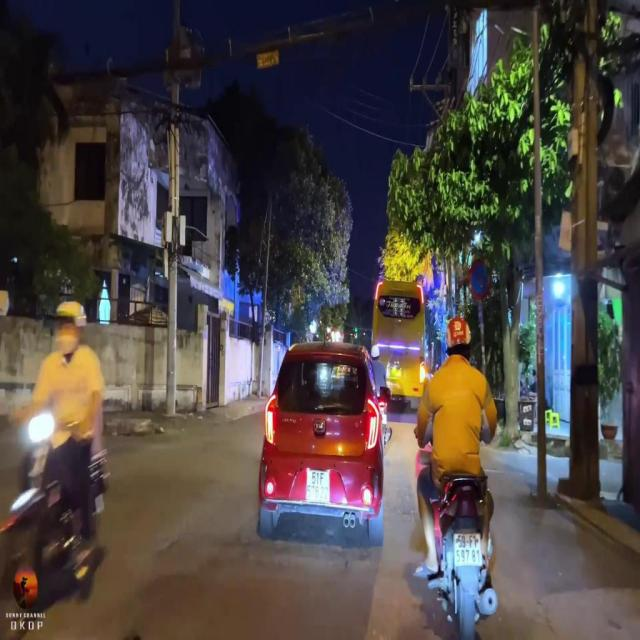cam_do_xe: (468, 257, 492, 299)
